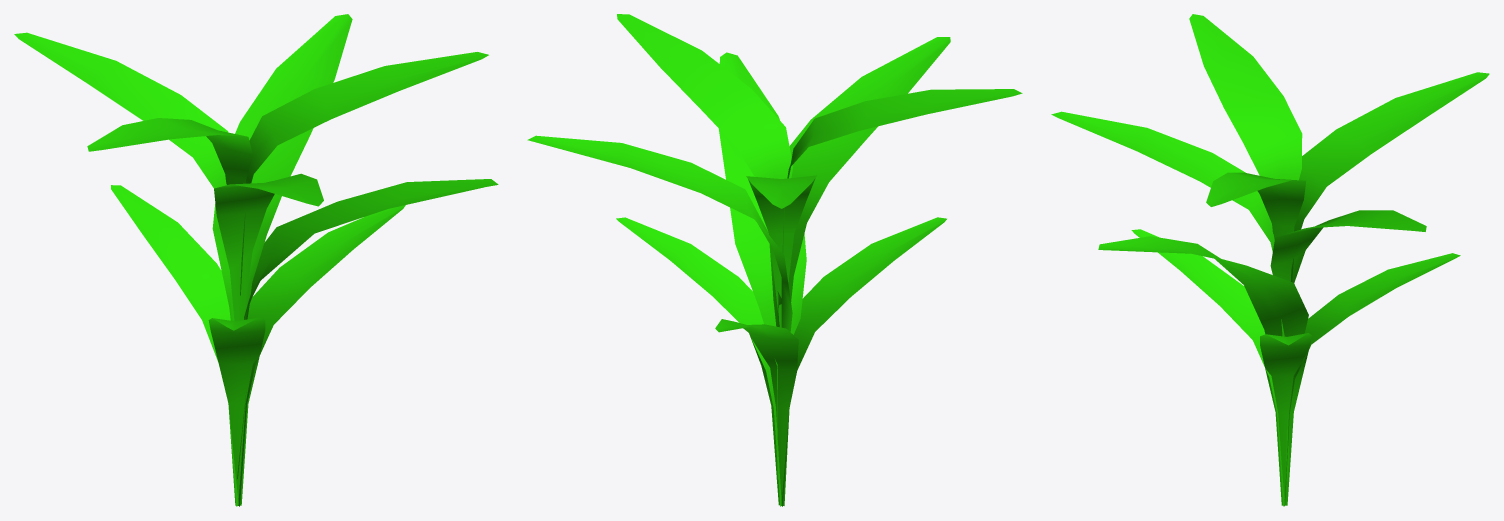
File: plant.gltf
3 views of the same model, side by side, from view 1: azimuth 30°, elevation 25°; view 2: azimuth 150°, elevation 25°; view 3: azimuth 270°, elevation 25° (orthographic). The views are drawn at different scales.
Parts seen in each view (by area): view 1: Plane.002; view 2: Plane.002; view 3: Plane.002.
Boxes of the visible parts, x1,y1,x2,y2 form: Plane.002: (14, 14, 498, 506); Plane.002: (527, 14, 1022, 506); Plane.002: (1051, 14, 1489, 506).
Bounding box in the file's own units: 1.44 × 1.47 × 1.46.
